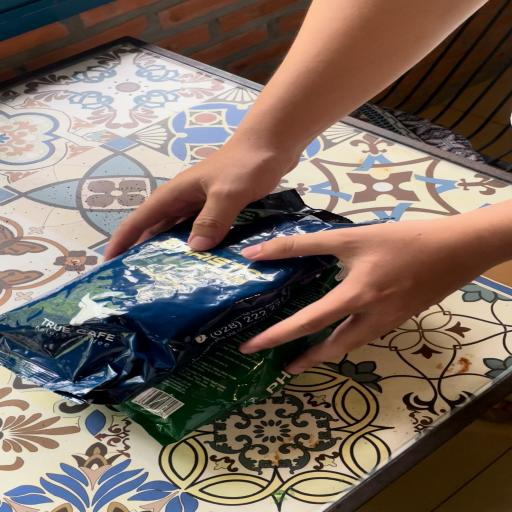cafe_hat: (0, 191, 365, 405)
cafe_xay: (116, 263, 340, 445), (456, 357, 471, 374)
